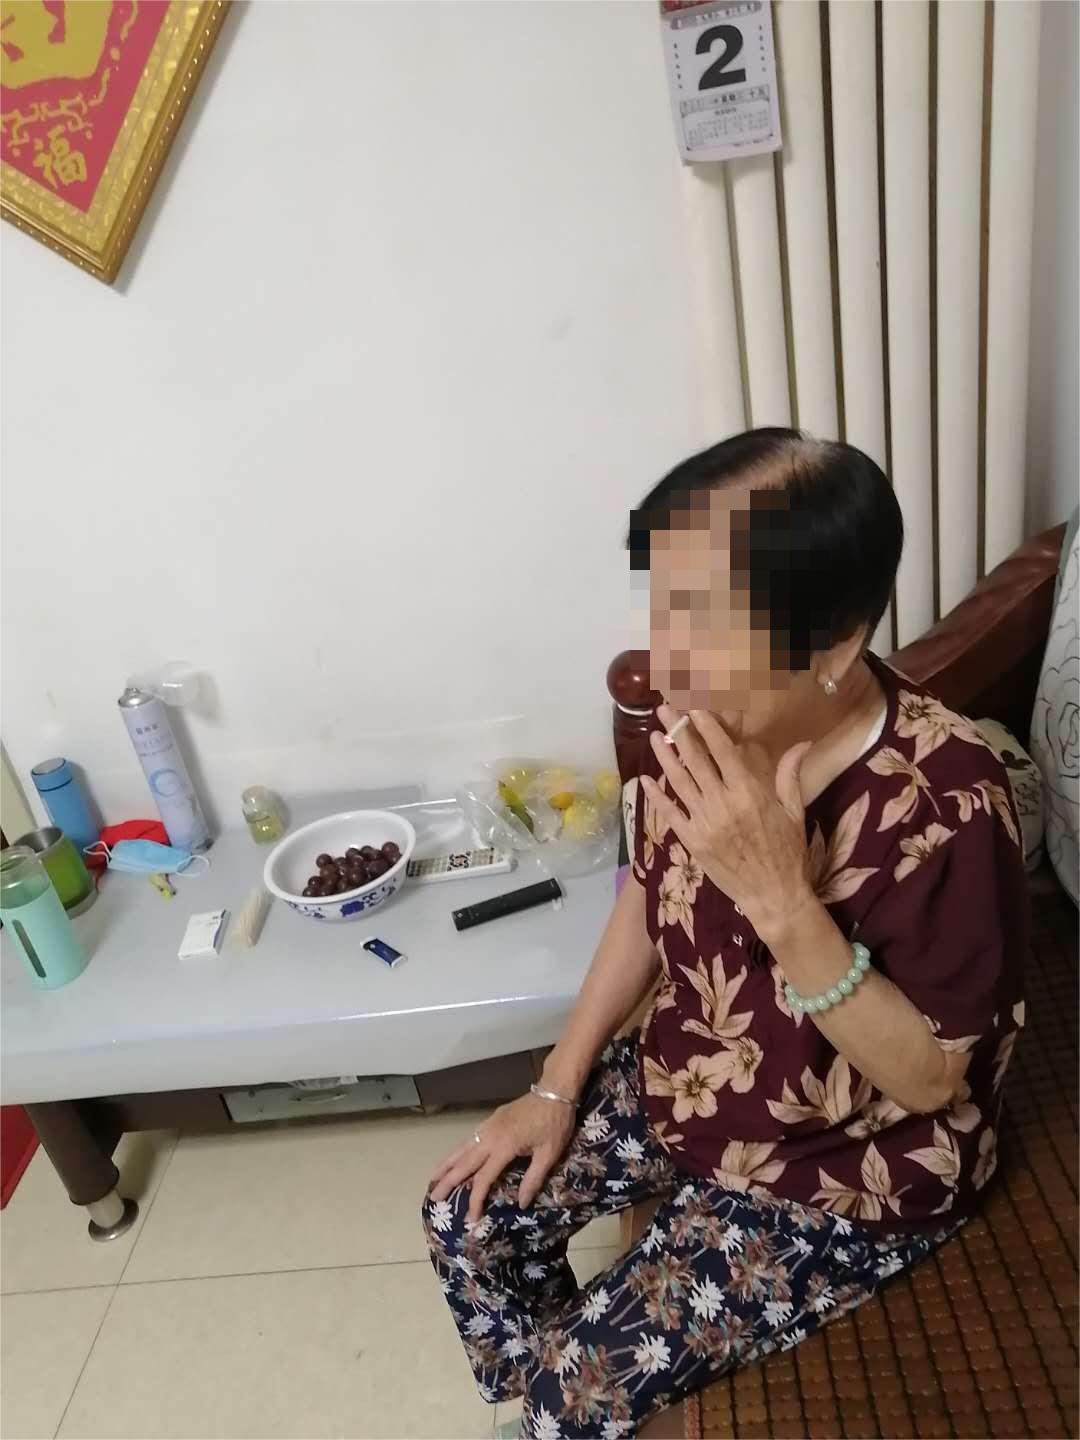smoke: (658, 713, 694, 751)
